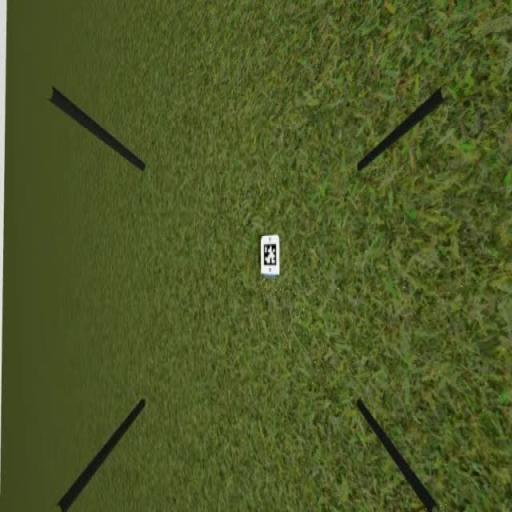UGV: (257, 231, 283, 280)
